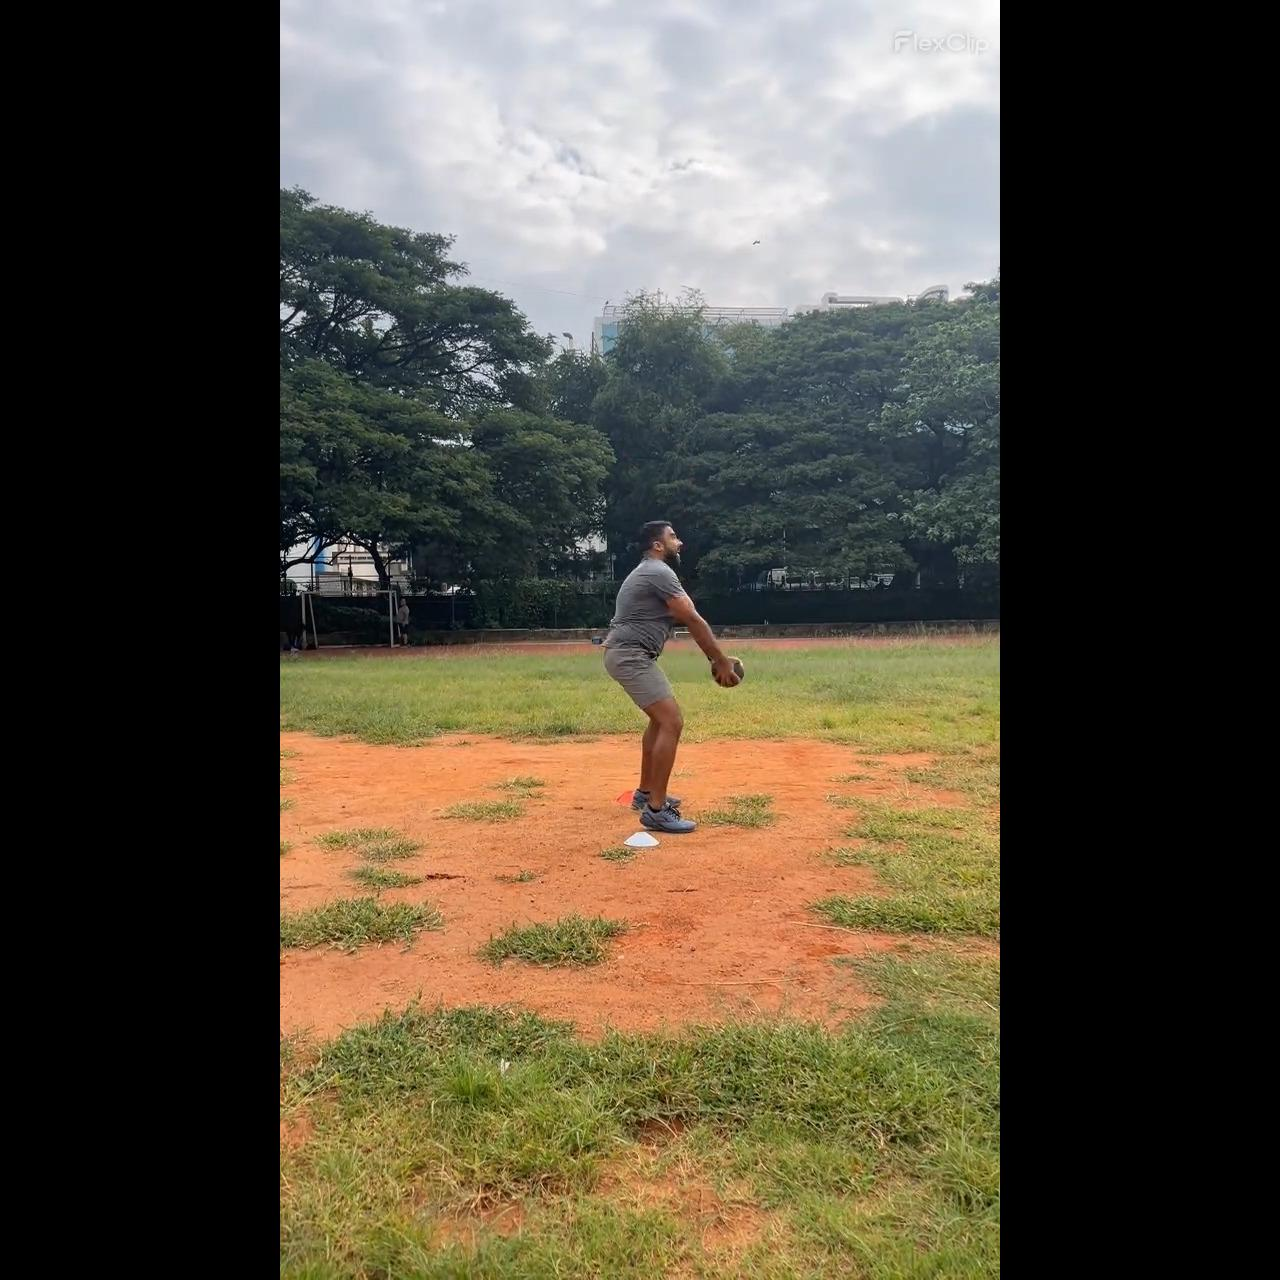Athelete: (594, 517, 745, 835)
